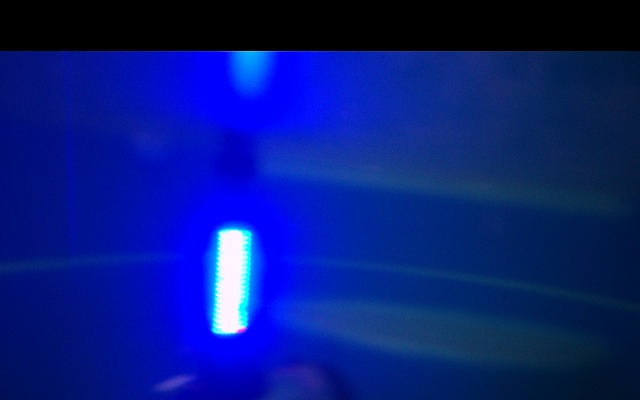blue: (210, 223, 252, 349)
